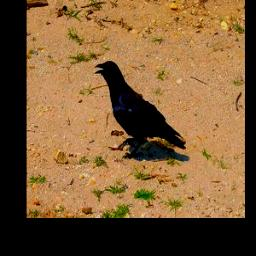Crow: (94, 60, 185, 158)
